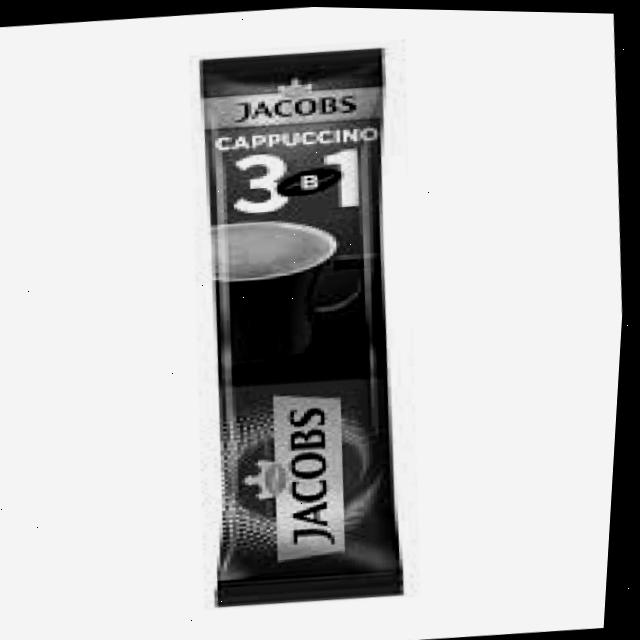jacobs: (204, 63, 389, 131)
